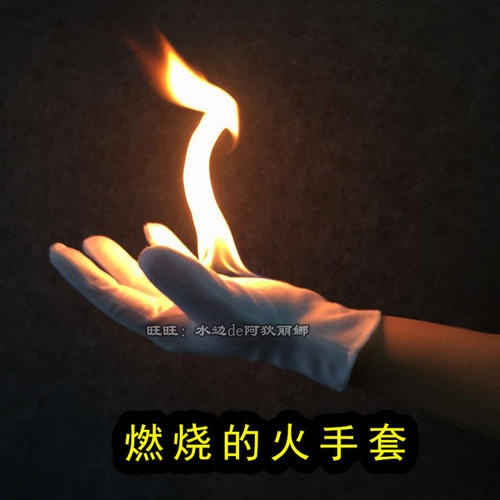fire: (142, 37, 259, 281)
